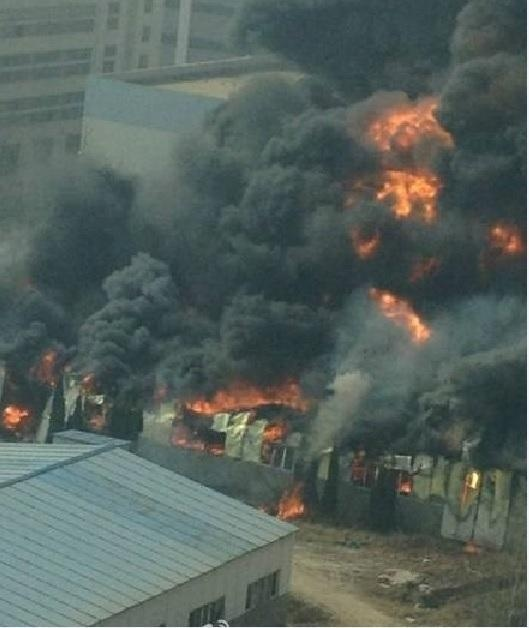fire: (176, 379, 307, 455), (370, 101, 443, 151), (377, 167, 440, 215), (373, 289, 428, 342), (278, 485, 305, 518), (2, 402, 29, 426), (462, 470, 479, 493)
